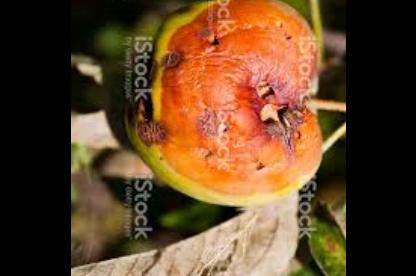defect: (128, 0, 314, 196)
